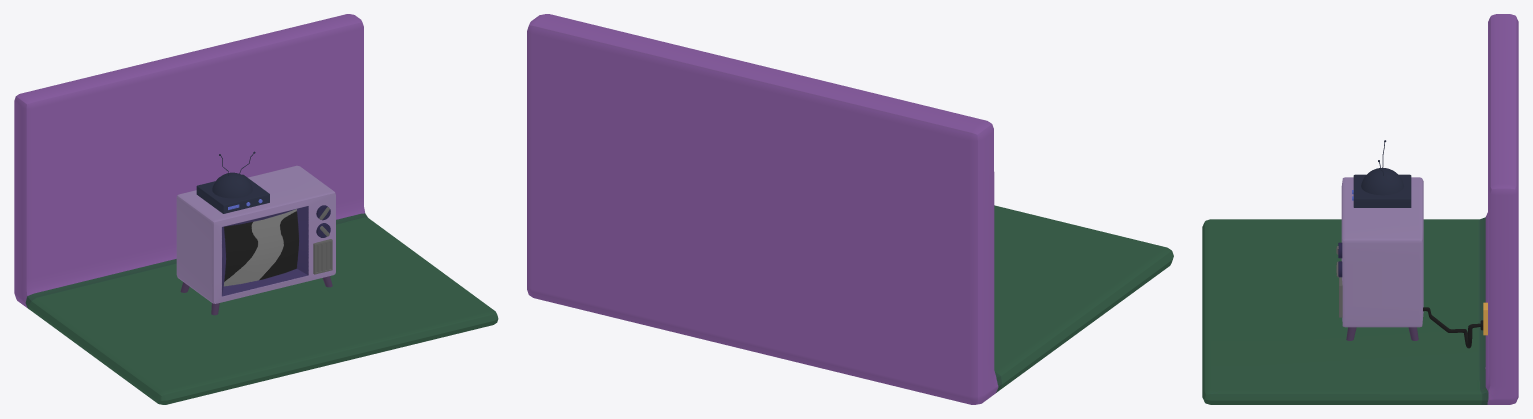
The picture shows the model from 3 angles, left to right: view 1: azimuth 30°, elevation 25°; view 2: azimuth 150°, elevation 25°; view 3: azimuth 270°, elevation 25°; orthographic projection. The views are drawn at different scales.
Visible parts, largest first — view 1: Piso, Cuerpo, Modem, Antena_Base, Reja; view 2: Piso; view 3: Piso, Cuerpo, Modem, Antena_Base, Cable.
Part boxes in pixels (x1,y1,x2,y2): Piso: [14, 14, 498, 404]; Cuerpo: [176, 165, 335, 303]; Modem: [196, 174, 269, 213]; Antena_Base: [212, 172, 252, 198]; Reja: [313, 239, 332, 274]; Piso: [527, 14, 1173, 404]; Piso: [1202, 14, 1518, 404]; Cuerpo: [1341, 177, 1423, 327]; Modem: [1353, 174, 1411, 207]; Antena_Base: [1361, 168, 1403, 195]; Cable: [1423, 307, 1480, 348].
Bounding box in the file's own units: 14.04 × 8.17 × 10.61.
Materials: 5 (5 with a texture image).
